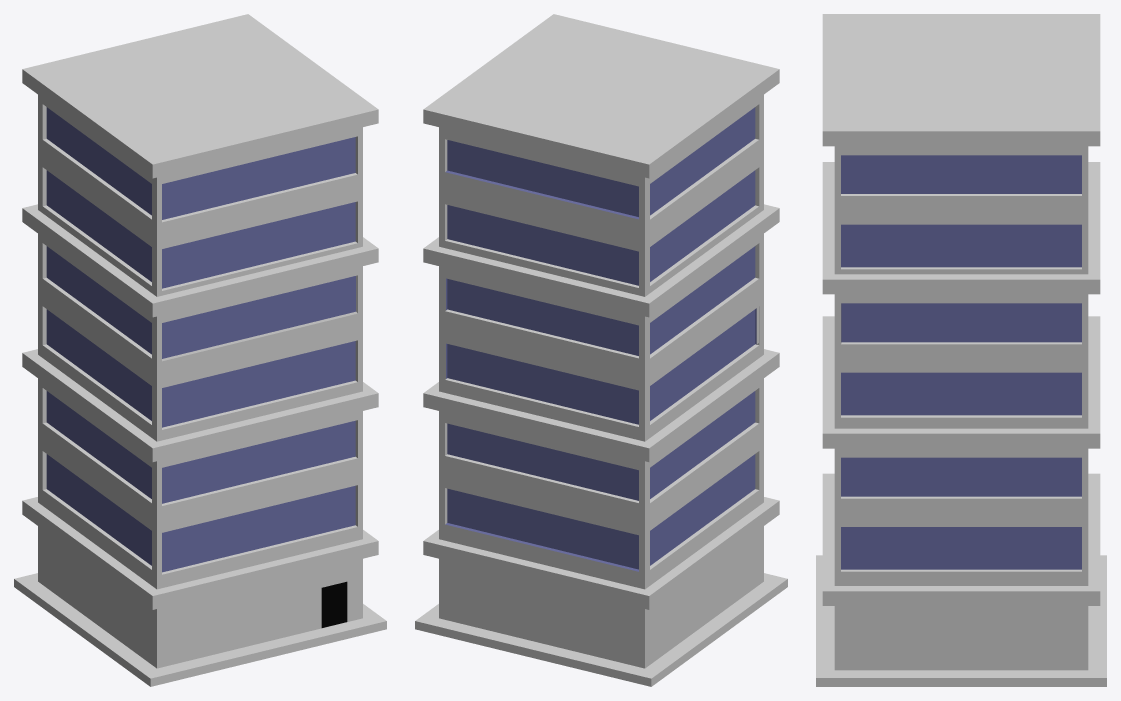
3 renders of one model, left to right at view 1: azimuth 30°, elevation 25°; view 2: azimuth 150°, elevation 25°; view 3: azimuth 270°, elevation 25°, orthographic. The views are drawn at different scales.
Parts seen in each view (by area): view 1: 立方体; view 2: 立方体; view 3: 立方体.
Part boxes in pixels (x1,y1,x2,y2): 立方体: [14, 14, 386, 686]; 立方体: [415, 14, 787, 686]; 立方体: [816, 14, 1106, 686].
Bounding box in the file's own units: 2293 × 4812 × 2293.
